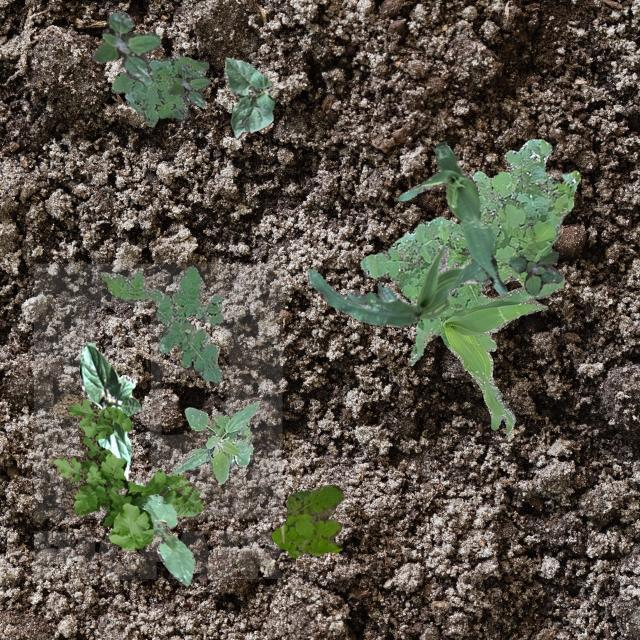crop: (396, 140, 506, 294), (306, 242, 488, 326), (78, 342, 140, 478), (172, 400, 258, 482), (133, 480, 195, 584), (222, 56, 274, 138)
weed: (360, 138, 580, 364), (48, 394, 206, 550), (439, 276, 564, 434), (100, 266, 222, 382), (110, 56, 208, 126), (270, 484, 342, 556), (90, 11, 160, 84), (506, 250, 562, 294), (168, 64, 208, 106)
